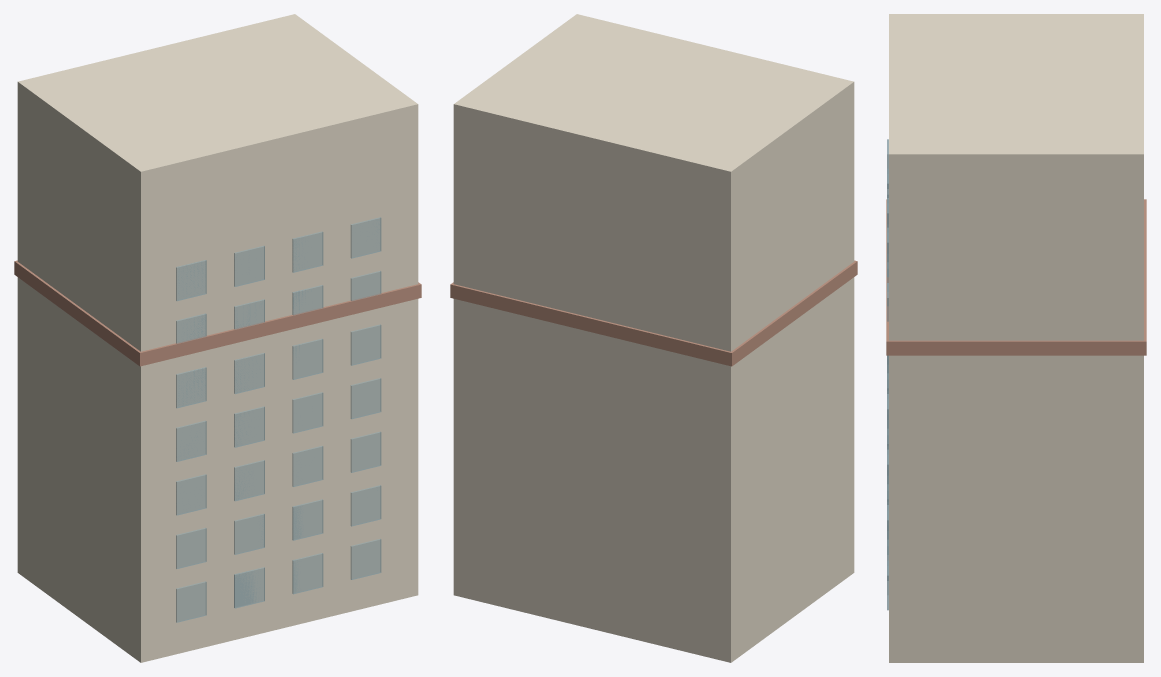
Rendered from building_med_02.glb.
The picture shows the model from 3 angles, left to right: view 1: azimuth 30°, elevation 25°; view 2: azimuth 150°, elevation 25°; view 3: azimuth 270°, elevation 25°; orthographic projection. The views are drawn at different scales.
Visible parts, largest first — view 1: Mass.004, Band.001, Win_1_2.004, Win_3_2.002, Win_4_2.001, Win_4_3.001, Win_6_2, Win_0_2.004, Win_2_3.001, Win_1_3.001, Win_2_2.004, Win_3_3.001 (+18 smaller); view 2: Mass.004, Band.001; view 3: Mass.004, Band.001.
Boxes of the visible parts, bbox=[...] form: Mass.004: bbox=[17, 14, 418, 662]; Band.001: bbox=[14, 260, 421, 366]; Win_1_2.004: bbox=[292, 499, 323, 540]; Win_3_2.002: bbox=[292, 392, 323, 433]; Win_4_2.001: bbox=[292, 338, 323, 379]; Win_4_3.001: bbox=[350, 324, 381, 365]; Win_6_2: bbox=[292, 231, 323, 272]; Win_0_2.004: bbox=[292, 553, 323, 594]; Win_2_3.001: bbox=[350, 431, 381, 472]; Win_1_3.001: bbox=[350, 485, 381, 526]; Win_2_2.004: bbox=[292, 446, 323, 486]; Win_3_3.001: bbox=[350, 378, 381, 419]; Mass.004: bbox=[453, 14, 854, 662]; Band.001: bbox=[450, 260, 857, 366]; Mass.004: bbox=[889, 14, 1143, 662]; Band.001: bbox=[886, 199, 1146, 355].
Size of the model in its own units: 13.2 by 22 by 10.2.
